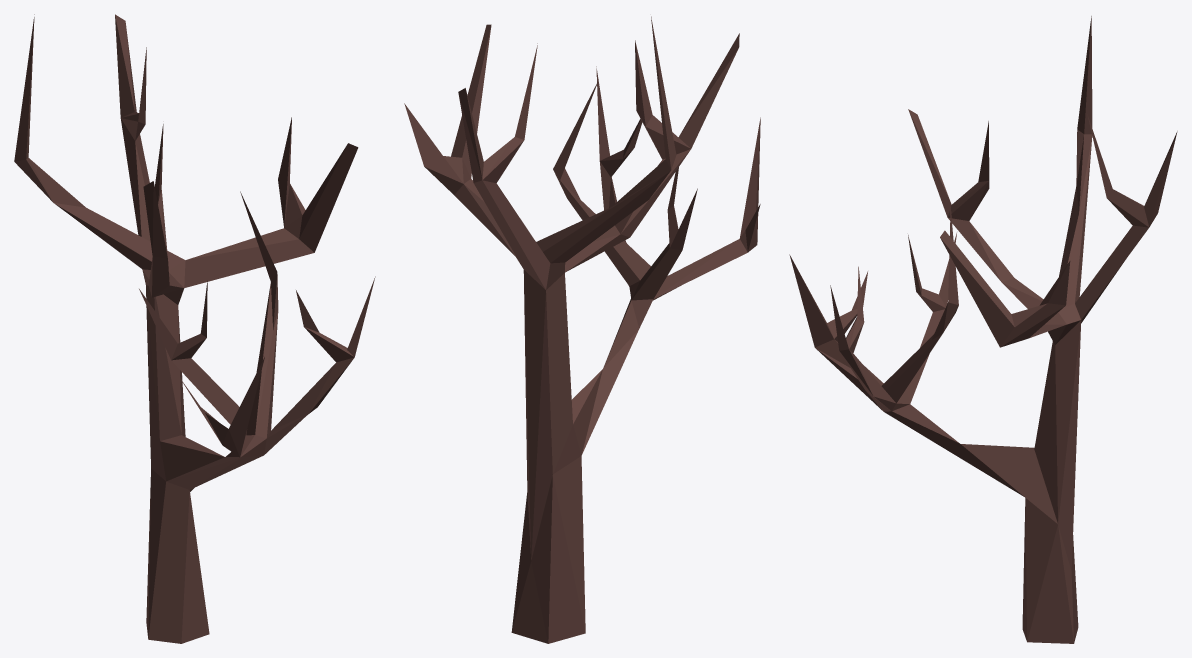
Rendered from tree-common-dead-2.gltf.
The picture shows the model from 3 angles, left to right: view 1: azimuth 30°, elevation 25°; view 2: azimuth 150°, elevation 25°; view 3: azimuth 270°, elevation 25°; orthographic projection. The views are drawn at different scales.
Parts seen in each view (by area): view 1: CommonTree_Dead_2_Cube.001; view 2: CommonTree_Dead_2_Cube.001; view 3: CommonTree_Dead_2_Cube.001.
Boxes of the visible parts, <box> form: CommonTree_Dead_2_Cube.001: <box>14,14,375,643</box>; CommonTree_Dead_2_Cube.001: <box>404,16,760,643</box>; CommonTree_Dead_2_Cube.001: <box>789,16,1177,643</box>.
Size of the model in its own units: 0.0132 by 0.0299 by 0.0185.
